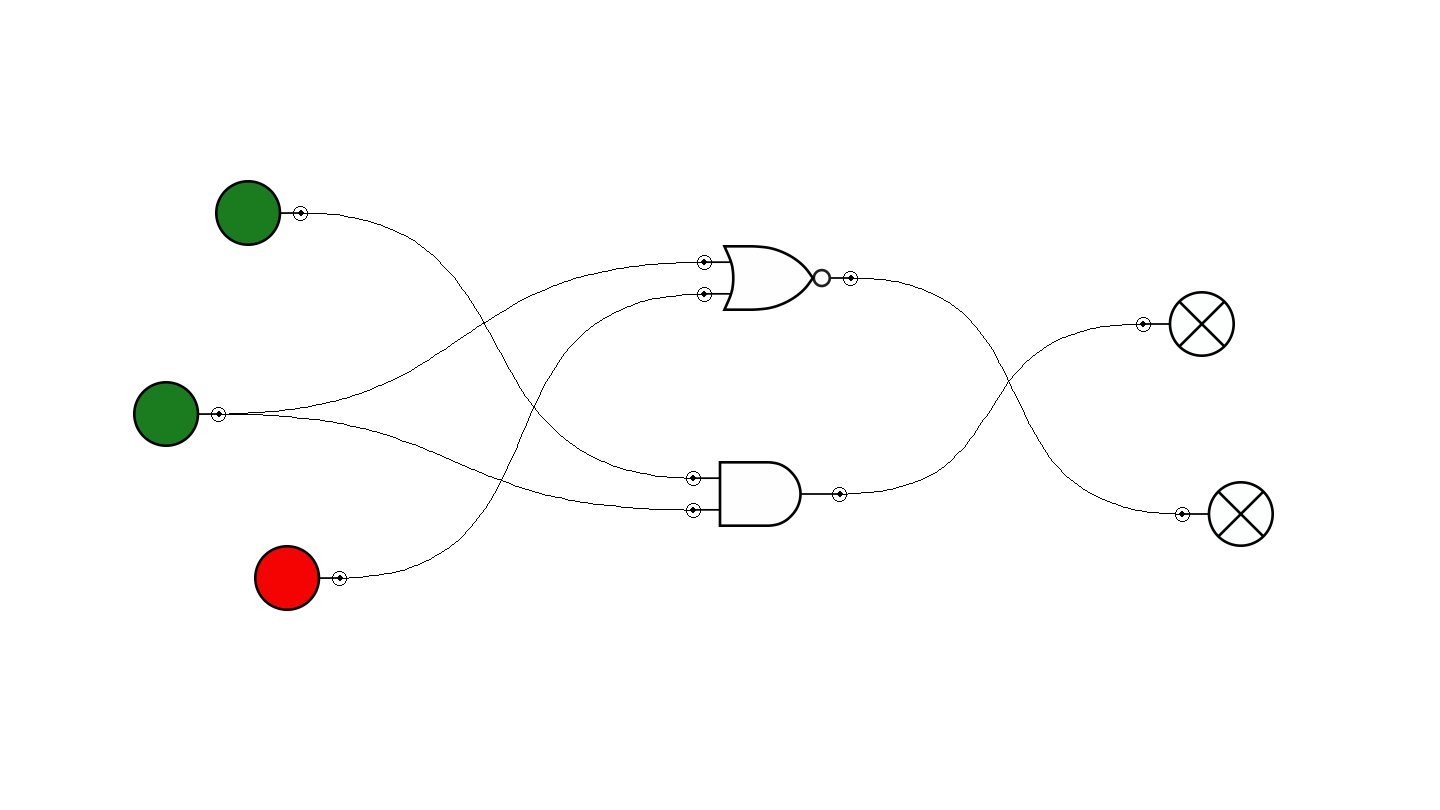and: (686, 461, 847, 527)
bulb: (1136, 291, 1235, 357), (1175, 481, 1274, 547)
nor: (697, 245, 858, 311)
switch_False: (254, 545, 347, 611)
switch_True: (133, 381, 226, 447), (215, 180, 308, 246)
